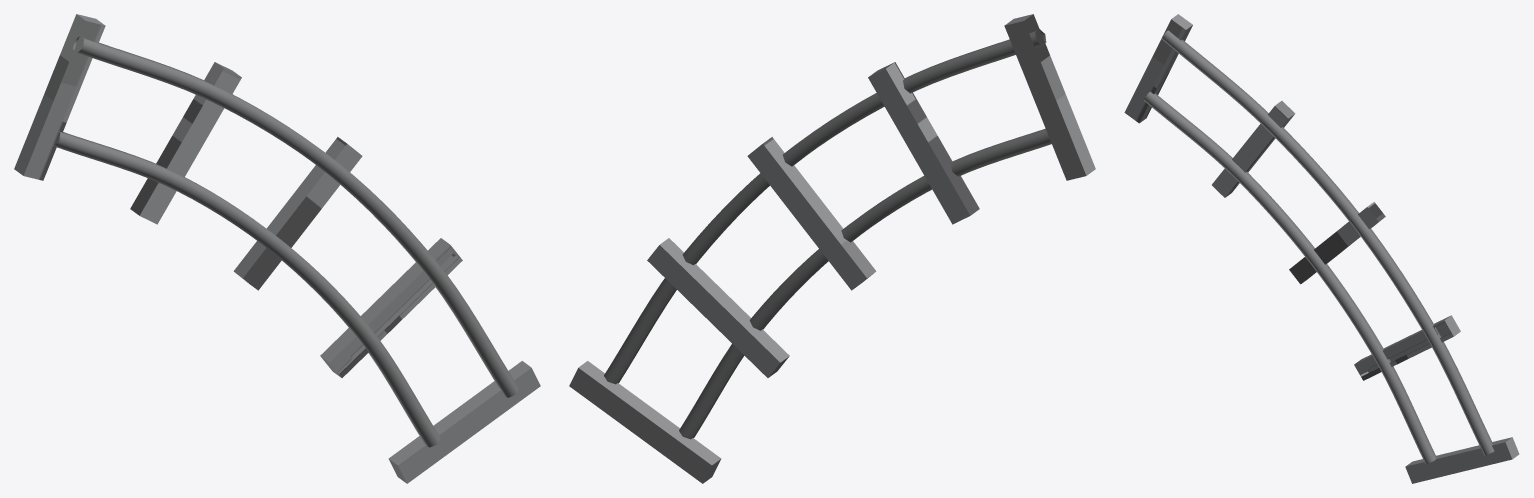
The picture shows the model from 3 angles, left to right: view 1: azimuth 30°, elevation 25°; view 2: azimuth 150°, elevation 25°; view 3: azimuth 330°, elevation 25°; orthographic projection. The views are drawn at different scales.
Bounding box in the file's own units: 0.8712 × 0.8712 × 0.0405.
